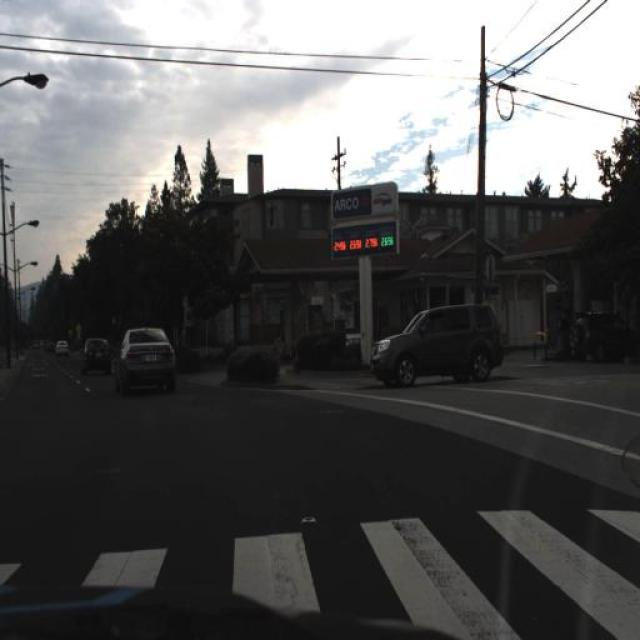car: (363, 299, 508, 391), (113, 323, 179, 396), (80, 329, 115, 383), (80, 335, 116, 381), (54, 333, 74, 361)
